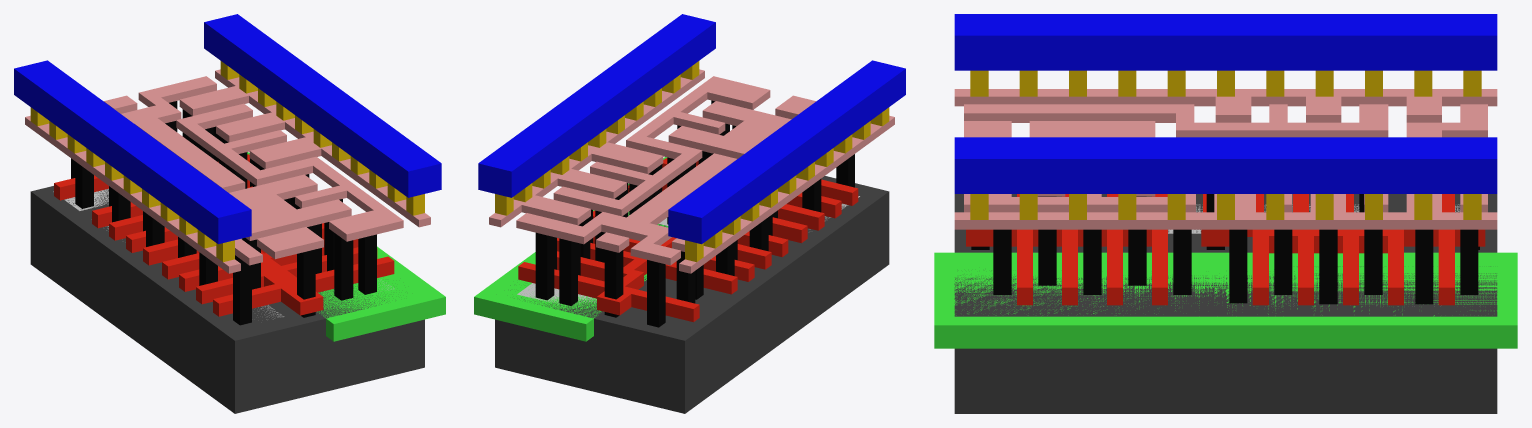
File: sky130_fd_sc_hd__einvn_4.obj
The picture shows the model from 3 angles, left to right: view 1: azimuth 30°, elevation 25°; view 2: azimuth 150°, elevation 25°; view 3: azimuth 270°, elevation 25°; orthographic projection. The views are drawn at different scales.
Parts seen in each view (by area): view 1: subs, li, metal1, licon, poly, nwell, mcon, diff; view 2: subs, li, metal1, poly, licon, mcon, nwell, tap; view 3: metal1, subs, li, nwell, poly, licon, mcon.
Boxes of the visible parts, x1,y1,x2,y2 form: subs: [30, 186, 424, 413]; li: [25, 69, 430, 273]; metal1: [14, 14, 441, 244]; licon: [71, 101, 376, 325]; poly: [54, 154, 394, 316]; nwell: [247, 152, 445, 341]; mcon: [30, 61, 424, 262]; diff: [53, 188, 284, 319]; subs: [495, 176, 889, 413]; li: [489, 69, 894, 273]; metal1: [478, 14, 905, 244]; poly: [518, 158, 858, 322]; licon: [535, 100, 854, 327]; mcon: [495, 61, 889, 262]; nwell: [474, 157, 668, 341]; tap: [517, 214, 668, 305]; metal1: [954, 14, 1497, 193]; subs: [954, 194, 1497, 413]; li: [954, 89, 1497, 229]; nwell: [934, 252, 1517, 348]; poly: [966, 194, 1485, 305]; licon: [971, 194, 1479, 304]; mcon: [970, 70, 1481, 219].
Bounding box in the file's own units: 3.2 × 2.74 × 5.44.
